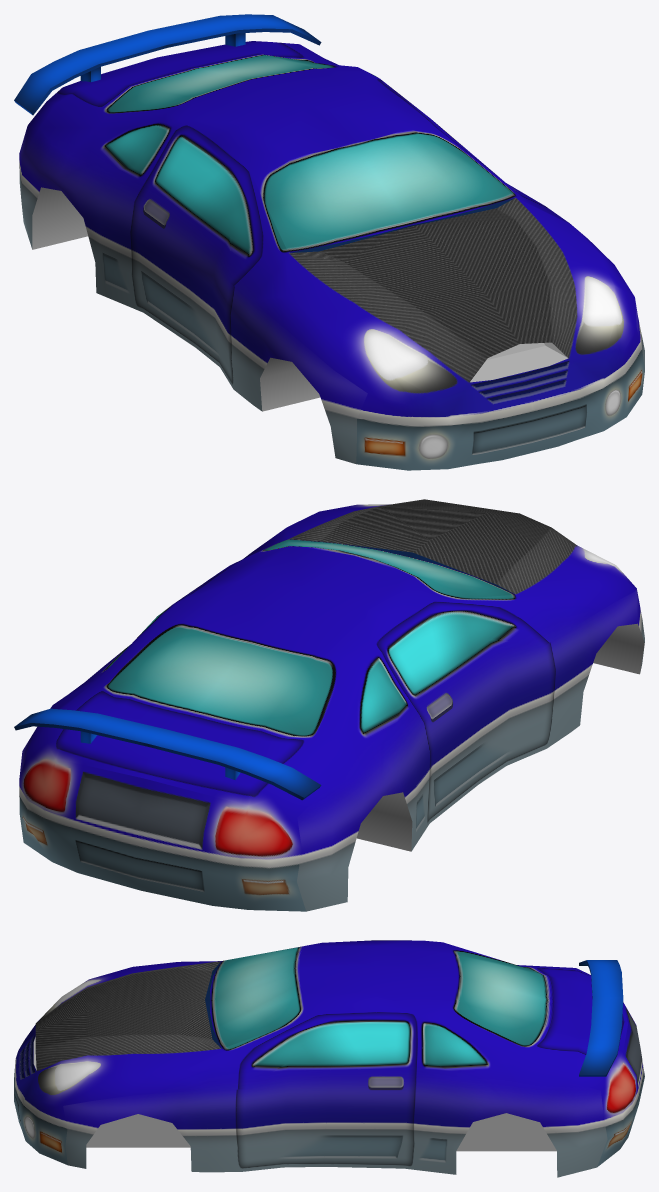
File: sportscar.glb
3 views of the same model, one above another, from view 1: azimuth 30°, elevation 25°; view 2: azimuth 150°, elevation 25°; view 3: azimuth 270°, elevation 25° (orthographic). The views are drawn at different scales.
Visible parts, largest first — view 1: sportscar; view 2: sportscar; view 3: sportscar.
Part boxes in pixels (x1=…): sportscar: x1=14, y1=14, x2=644, y2=470; sportscar: x1=14, y1=499, x2=644, y2=911; sportscar: x1=14, y1=940, x2=644, y2=1177.
Size of the model in its own units: 1.07 by 0.5976 by 2.26.
2 materials, 1 textured.
